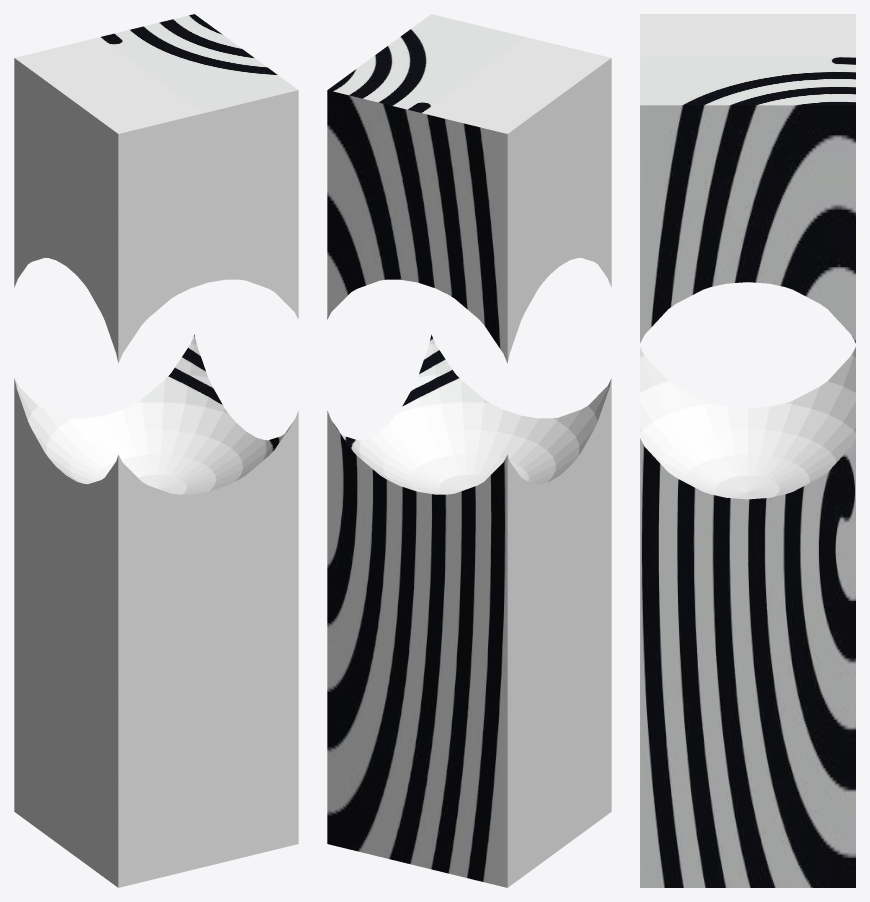
The model's file is terminal_7.glb.
3 views of the same model, side by side, from view 1: azimuth 30°, elevation 25°; view 2: azimuth 150°, elevation 25°; view 3: azimuth 270°, elevation 25° (orthographic). The views are drawn at different scales.
Parts seen in each view (by area): view 1: Cube; view 2: Cube; view 3: Cube.
Boxes of the visible parts, x1,y1,x2,y2 form: Cube: (14, 14, 298, 887); Cube: (327, 14, 611, 887); Cube: (640, 14, 855, 887).
Bounding box in the file's own units: 2 × 8 × 2.
1 material, 1 textured.
